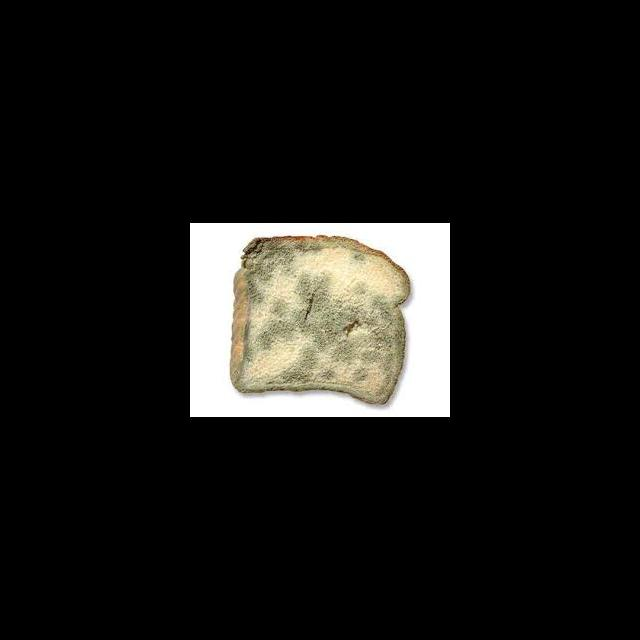food_waste: (218, 239, 419, 408)
